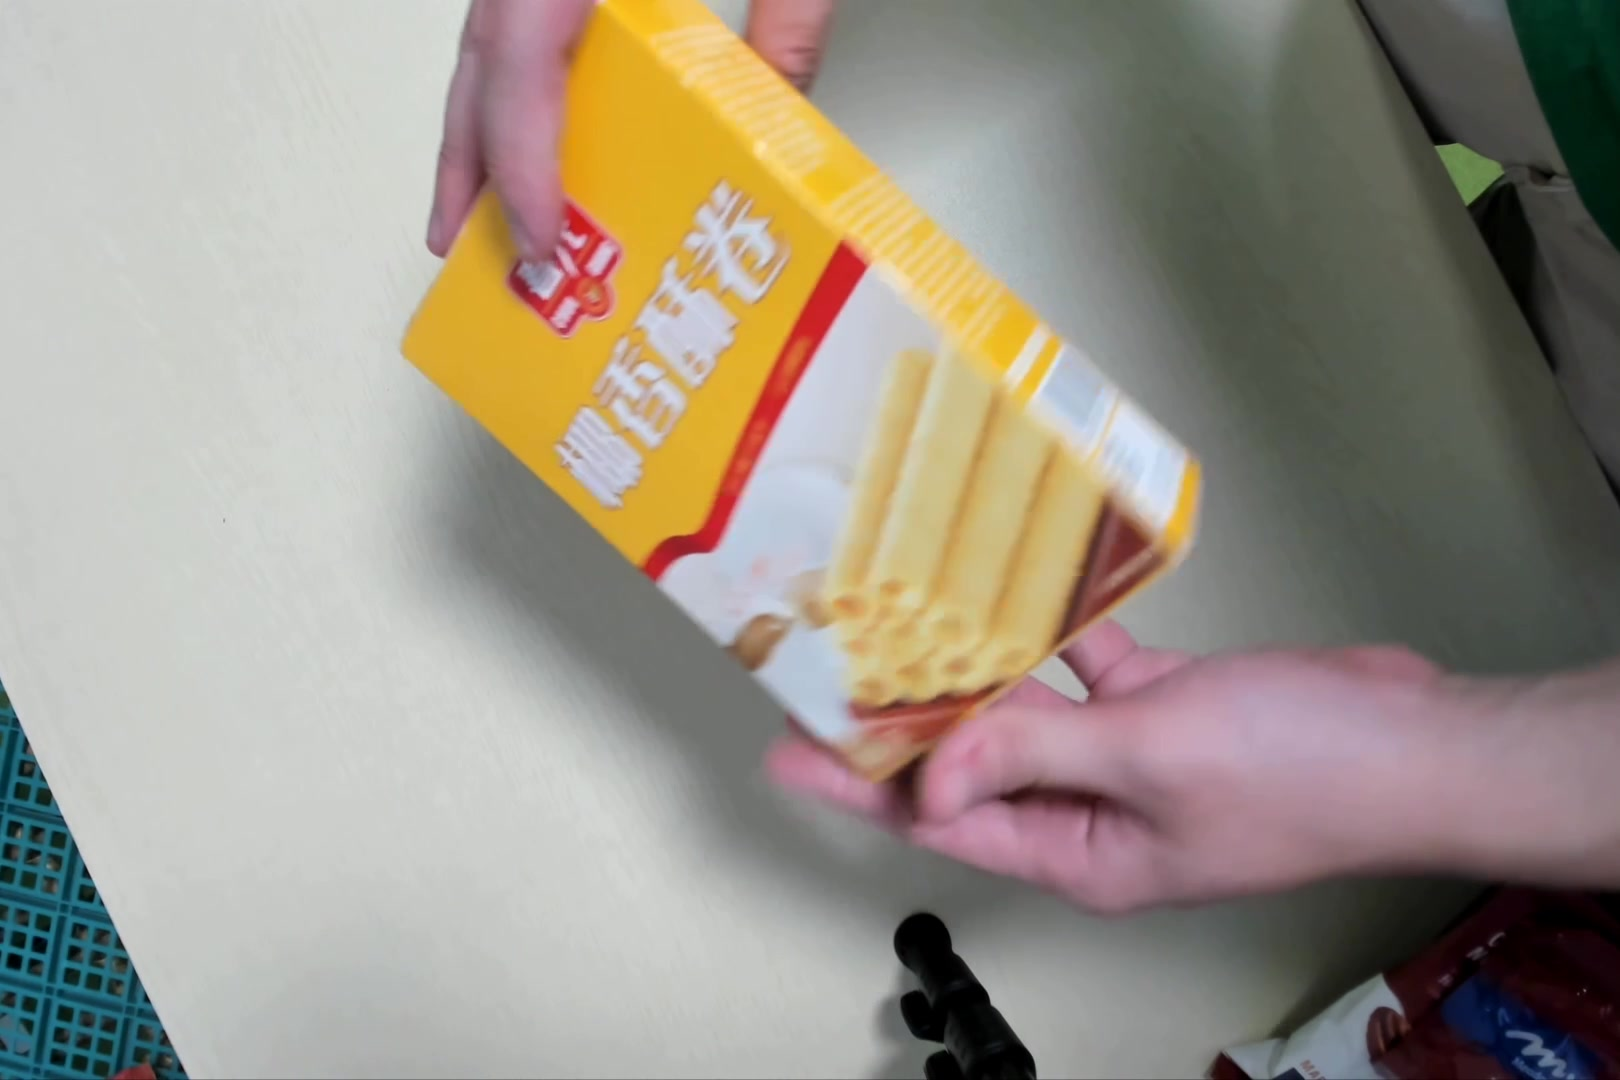BiscuitsCrackersCookies_0-99g_NonHalal_NonHealthy: (400, 7, 1207, 785)
